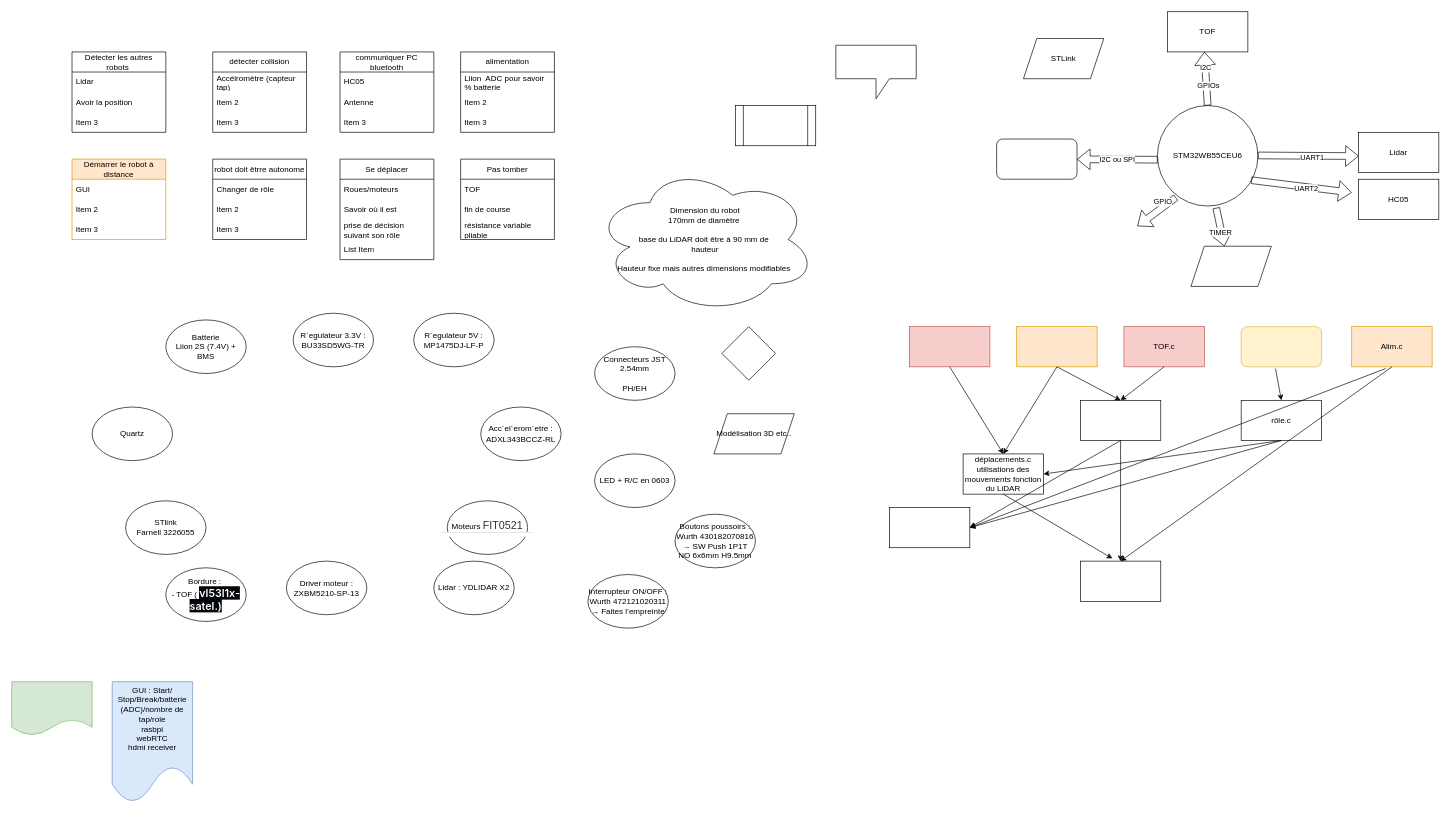
Some shapes in this 1451 by 814 pixel diagram are drawn without their labels. The centre of each missing label's shape, as x and y in pixels:
"Accel" belongs at (x=1036, y=158).
"Accel.c" belongs at (x=1281, y=346).
"Bluetooth.c" belongs at (x=929, y=527).
"Driver moteurs" belongs at (x=1230, y=266).
"Haut parleur pour son de chat ou souris en fonction du rôle qu'il a" belongs at (x=51, y=708).
"LED indication rôle + Direction + Repérage etc...." belongs at (x=775, y=125).
"LiDAR.c" belongs at (x=1056, y=346).
"main.c" belongs at (x=1120, y=580).
"mouvements.c création/liste des actions possibles" belongs at (x=949, y=346).
"PCB 54mmx57mm 4 couches" belongs at (x=748, y=353).
"Position/Localisation" belongs at (x=1120, y=420).
"Station de recharge" belongs at (x=875, y=72).
